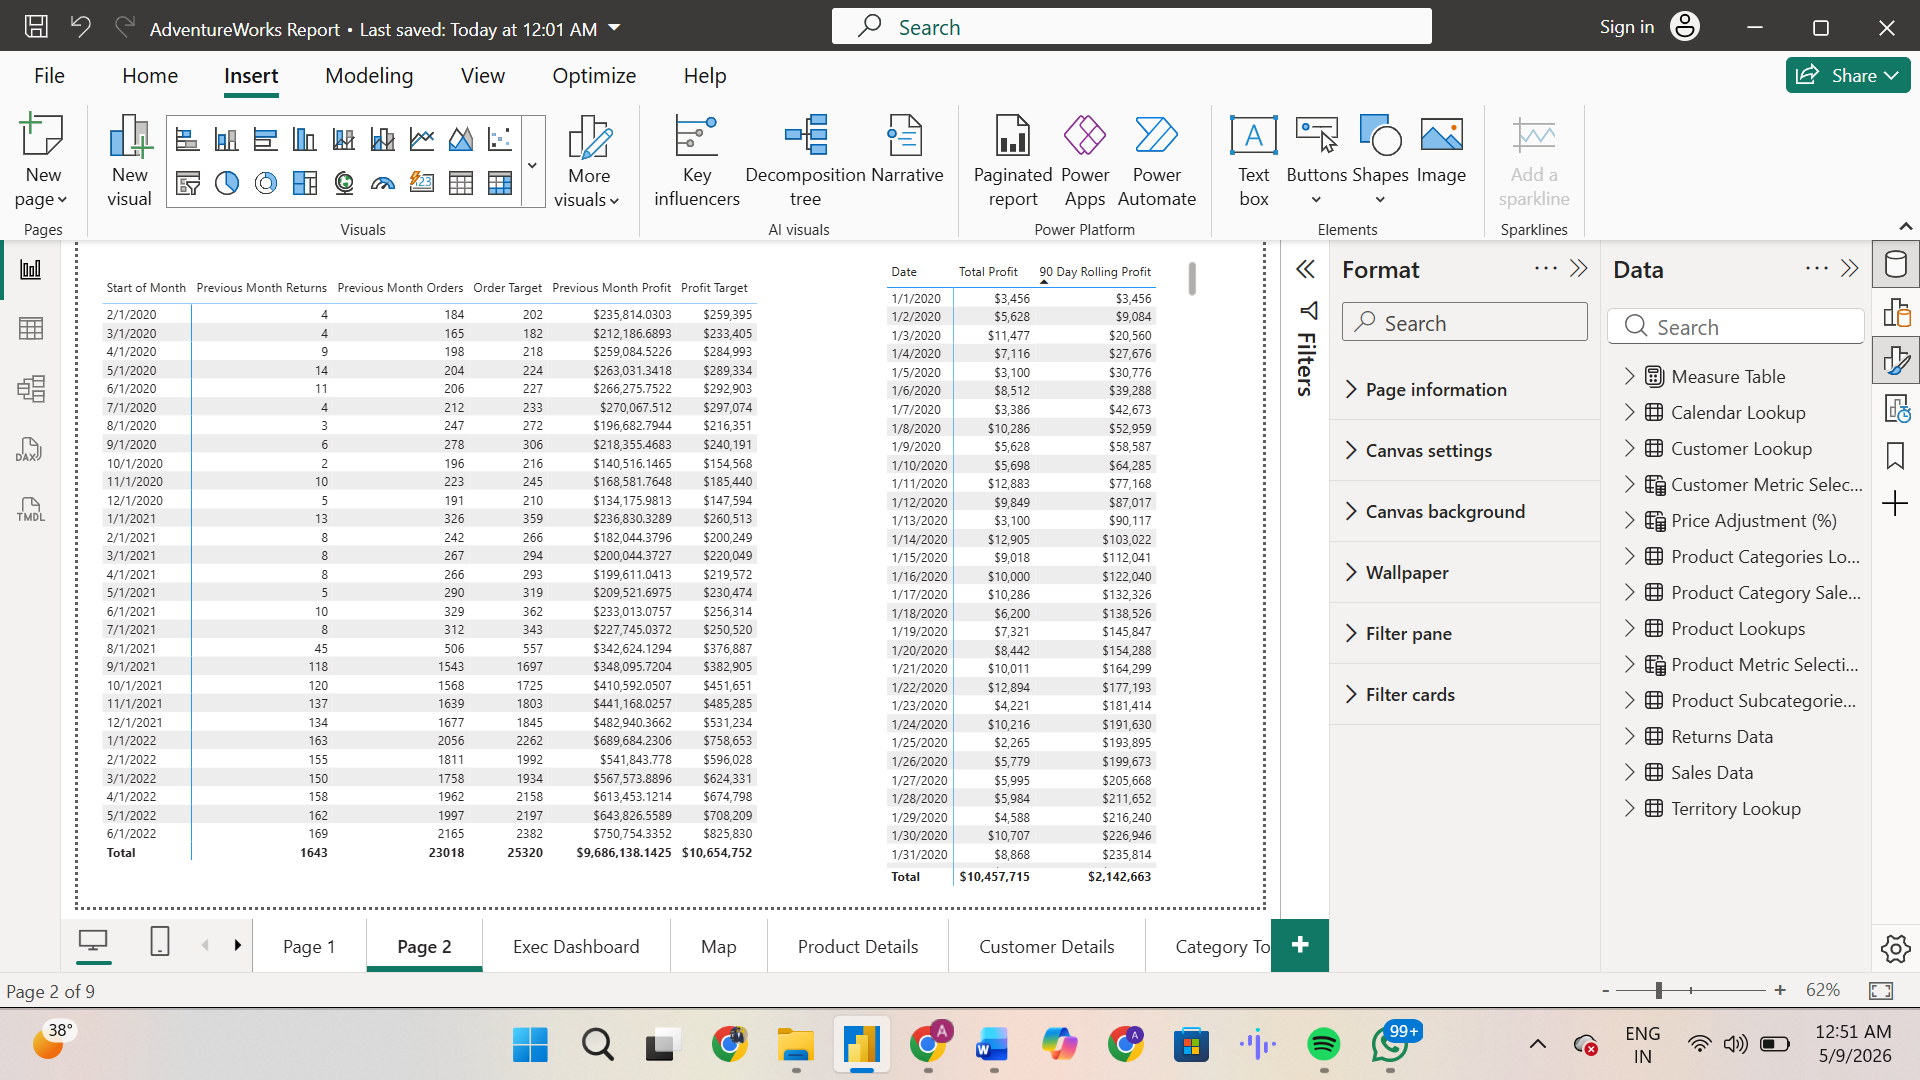

What the dashboard file says about the page in this screenshot:
{"tool":"powerbi","page":{"name":"Page 2","canvas":[1280,720],"ordinal":1},"visuals":[{"type":"pivotTable","fields":{"Rows":["Calendar Lookup.Start of Month"],"Values":["Measure Table.Previous Month Returns","Measure Table.Previous Month Orders","Measure Table.Order Target","Measure Table.Previous Month Profit","Measure Table.Profit Target"]},"box":[20.4,36.2,749.9,647.9],"z":0},{"type":"pivotTable","fields":{"Rows":["Calendar Lookup.Date"],"Values":["Measure Table.Total Profit","Measure Table.90 Day Rolling Profit"]},"box":[867.7,18.1,344.4,684.2],"z":1000}]}

Visuals, with their boxes on the page's 1280x720 design canvas (x1, y1, x2, y2). These are canvas units, not pixel positions in the 1920x1080 screenshot, which may show the page scaled, cropped or inside an application window:
pivotTable - Calendar Lookup.Start of Month x Measure Table.Previous Month Returns: detection(20, 36, 770, 684)
pivotTable - Calendar Lookup.Date x Measure Table.Total Profit: detection(868, 18, 1212, 702)
